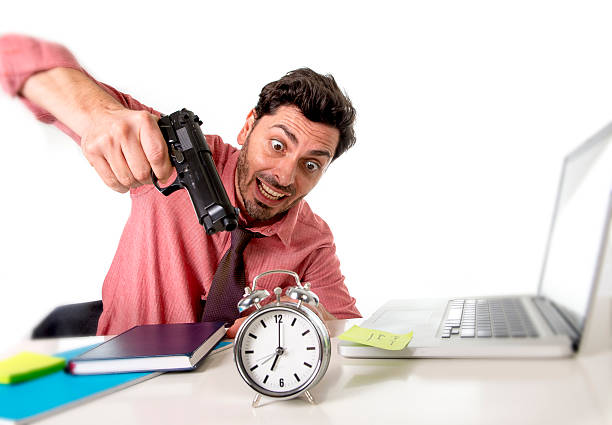gun: (147, 107, 236, 235)
